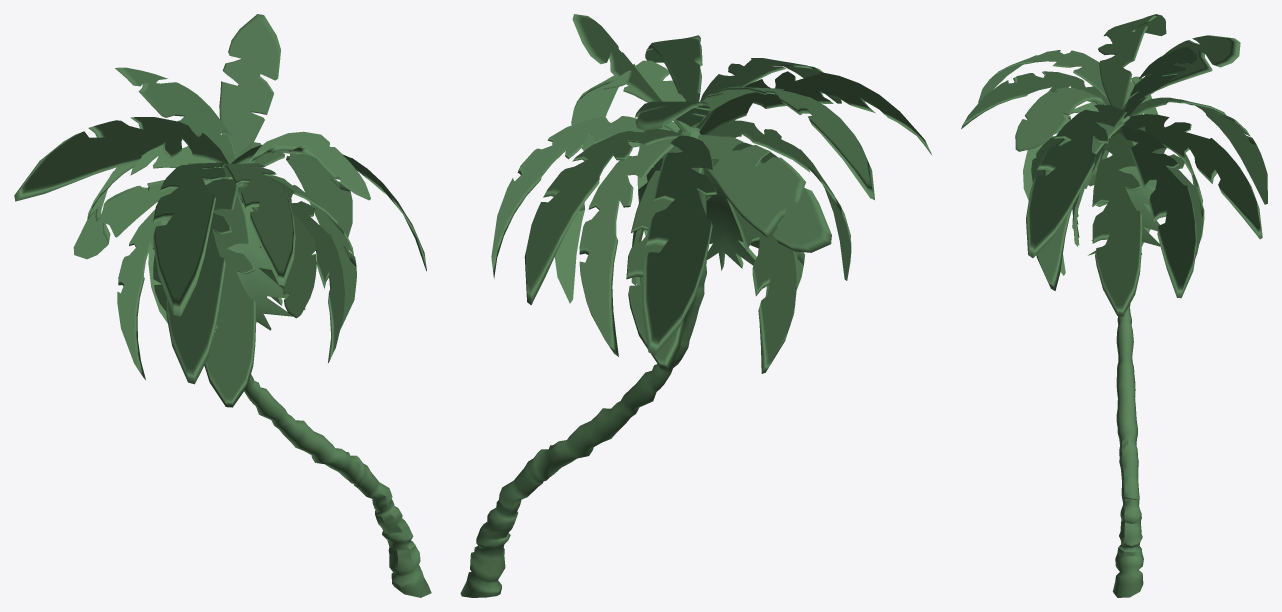
File: palm_tree_04_3_5_uv_export.fbx
3 views of the same model, side by side, from view 1: azimuth 30°, elevation 25°; view 2: azimuth 150°, elevation 25°; view 3: azimuth 270°, elevation 25° (orthographic). The views are drawn at different scales.
Visible parts, largest first — view 1: Palm_tree_04_3_5_uv_export; view 2: Palm_tree_04_3_5_uv_export; view 3: Palm_tree_04_3_5_uv_export.
Part boxes in pixels (x1,y1,x2,y2): Palm_tree_04_3_5_uv_export: [14, 14, 431, 597]; Palm_tree_04_3_5_uv_export: [460, 14, 931, 597]; Palm_tree_04_3_5_uv_export: [961, 14, 1267, 597].
Size of the model in its own units: 28.81 by 40.65 by 22.78.
